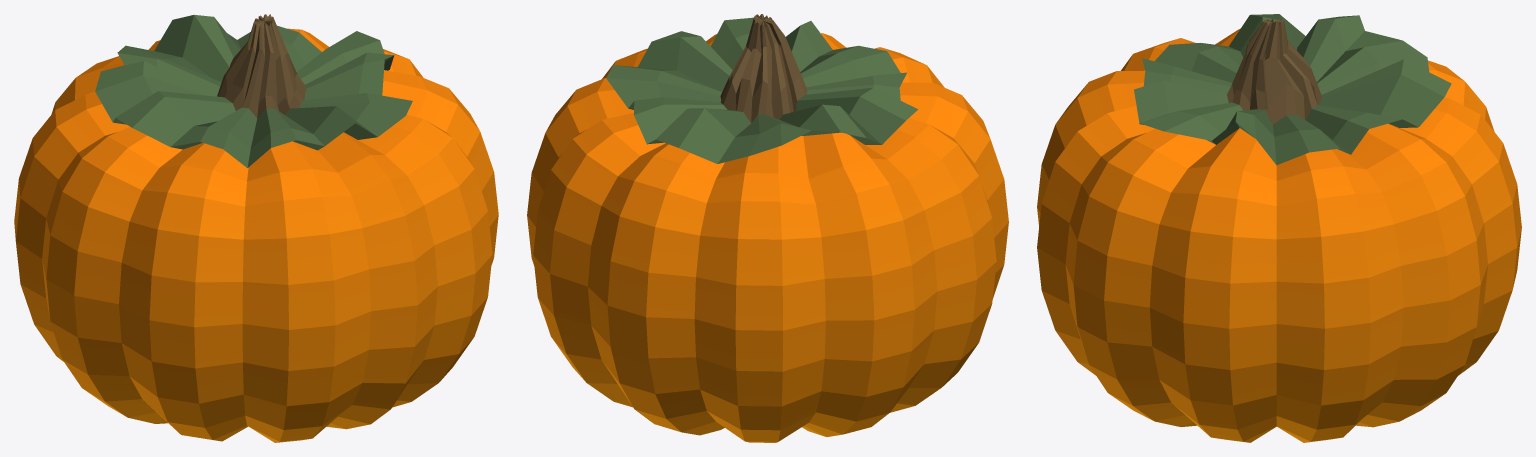
File: Pumpkin.fbx
3 renders of one model, left to right at view 1: azimuth 30°, elevation 25°; view 2: azimuth 150°, elevation 25°; view 3: azimuth 270°, elevation 25°, orthographic.
Parts seen in each view (by area): view 1: Sphere.002; view 2: Sphere.002; view 3: Sphere.002.
Part boxes in pixels (x1,y1,x2,y2): Sphere.002: [14, 14, 498, 442]; Sphere.002: [527, 14, 1008, 442]; Sphere.002: [1037, 14, 1521, 442].
Bounding box in the file's own units: 61.54 × 54.07 × 61.54.
